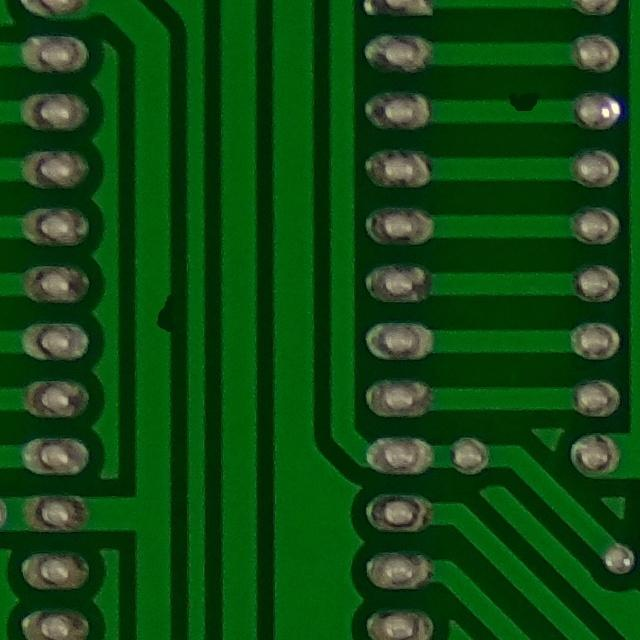mouse_bite: (142, 277, 186, 350), (497, 81, 555, 122)
